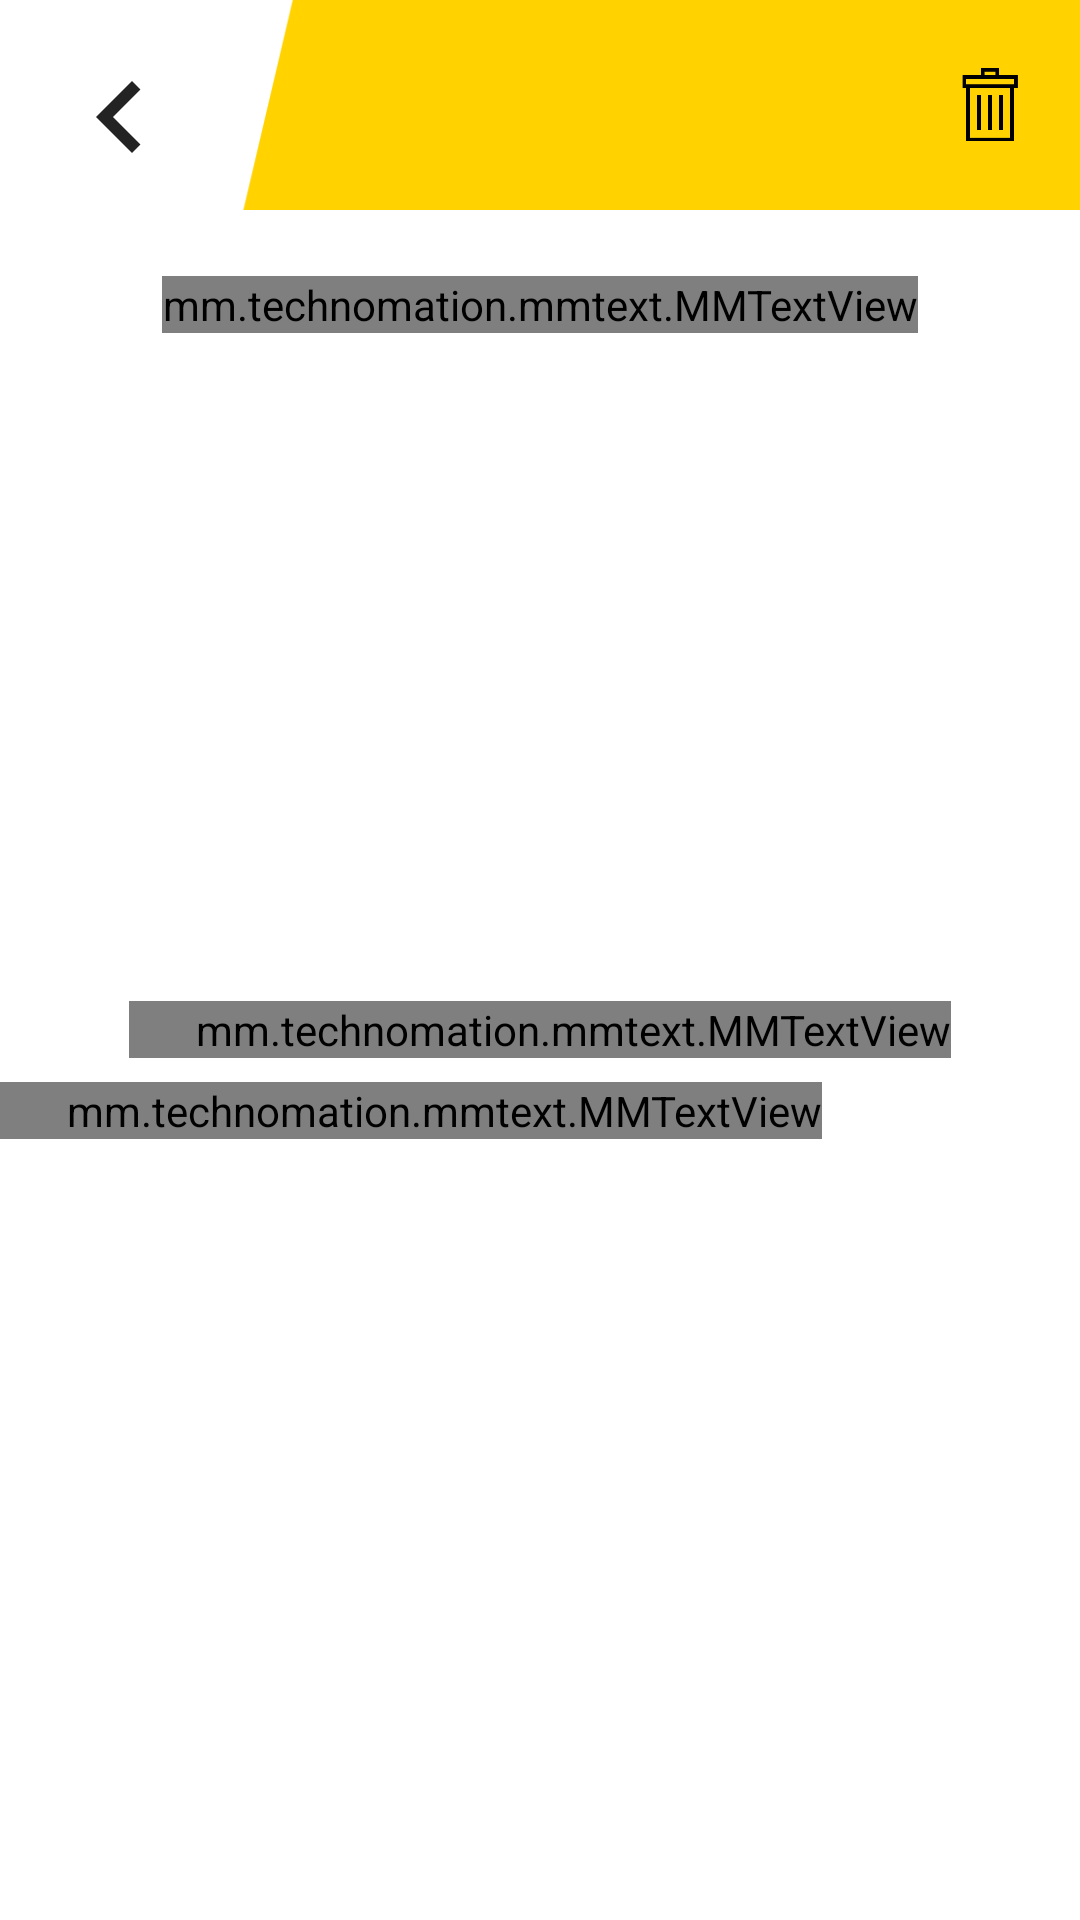

Screen size 1080*1920. Icon name, then its box in pixels as {"x1": x1, "y1": y1, "x2": x2, "y2": y2}:
bin: {"x1": 962, "y1": 68, "x2": 1018, "y2": 141}
keyboard arrow left: {"x1": 96, "y1": 81, "x2": 141, "y2": 153}
